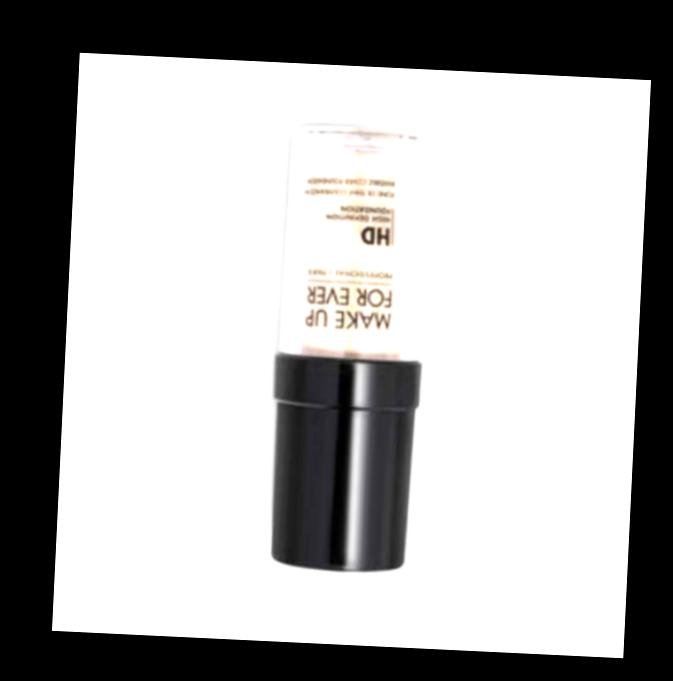cosmetic: (261, 122, 438, 575)
